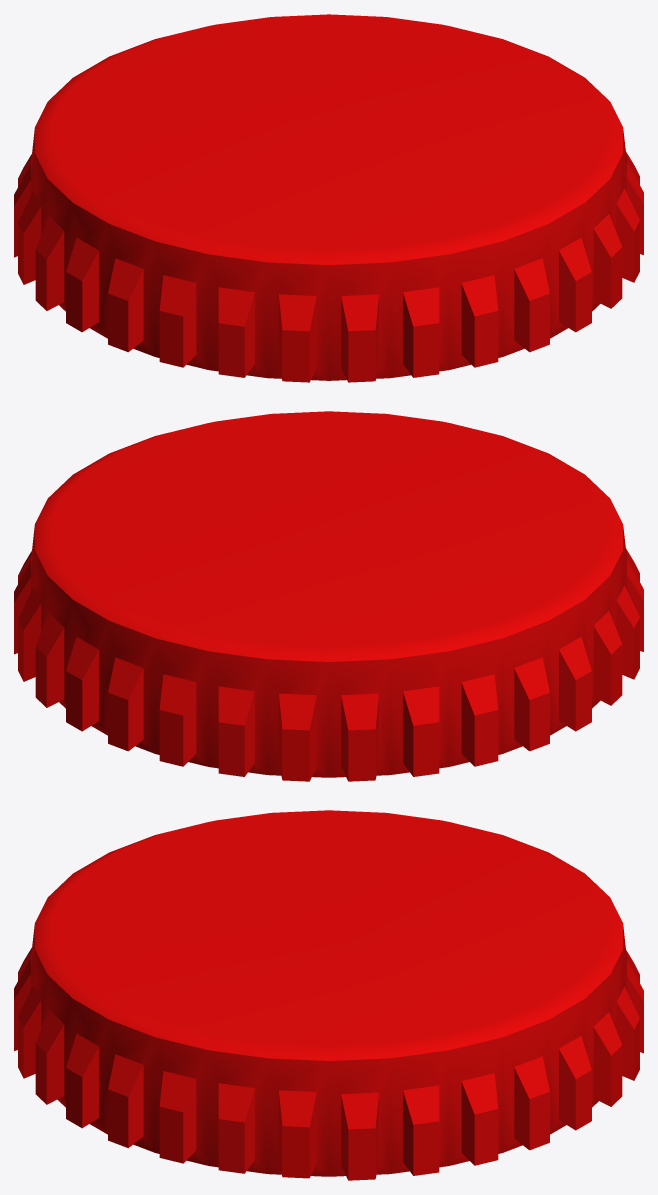
File: bottleCap.fbx
The picture shows the model from 3 angles, top to bottom: view 1: azimuth 30°, elevation 25°; view 2: azimuth 150°, elevation 25°; view 3: azimuth 270°, elevation 25°; orthographic projection.
Visible parts, largest first — view 1: bottleCap; view 2: bottleCap; view 3: bottleCap.
Boxes of the visible parts, x1,y1,x2,y2 form: bottleCap: (14,14,643,382); bottleCap: (14,411,643,781); bottleCap: (14,810,643,1180).
Bounding box in the file's own units: 3.24 × 0.7052 × 3.24.
